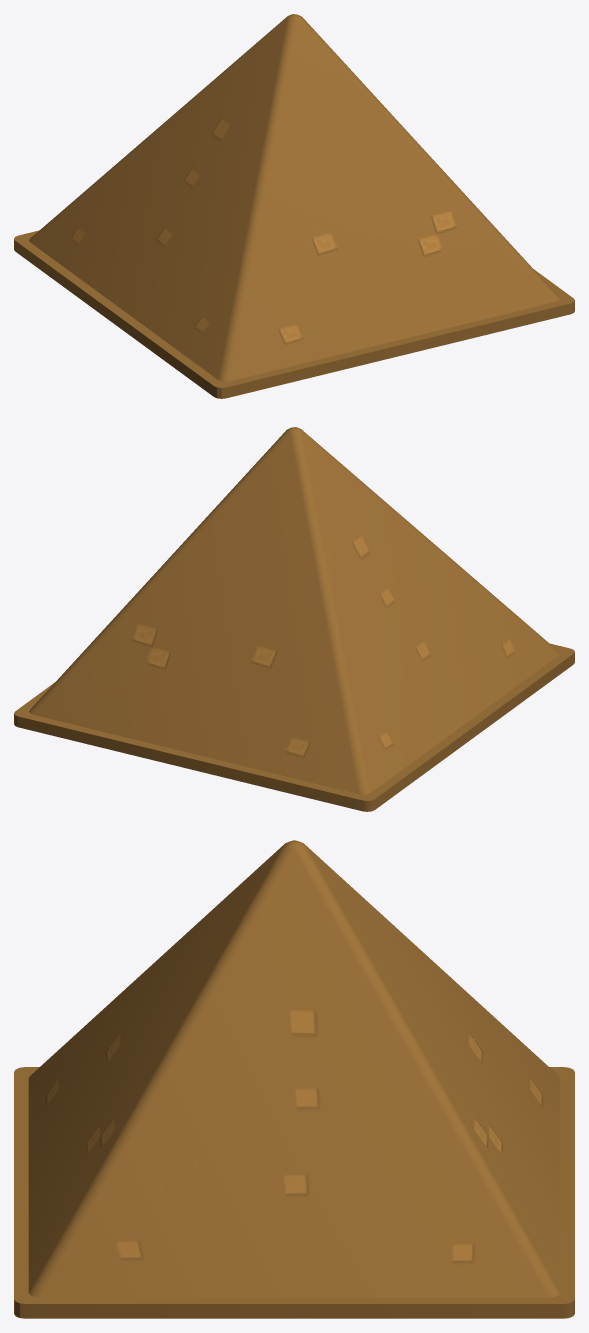
File: Piramit.fbx
3 views of the same model, one above another, from view 1: azimuth 30°, elevation 25°; view 2: azimuth 150°, elevation 25°; view 3: azimuth 270°, elevation 25° (orthographic). The views are drawn at different scales.
Visible parts, largest first — view 1: pyramid; view 2: pyramid; view 3: pyramid.
Boxes of the visible parts, left/top/right/bottom form: pyramid: left=14, top=14, right=574, bottom=398; pyramid: left=14, top=427, right=574, bottom=811; pyramid: left=14, top=840, right=574, bottom=1318.
Bounding box in the file's own units: 138 × 96.83 × 138.
Materials: 1 (1 with a texture image).
